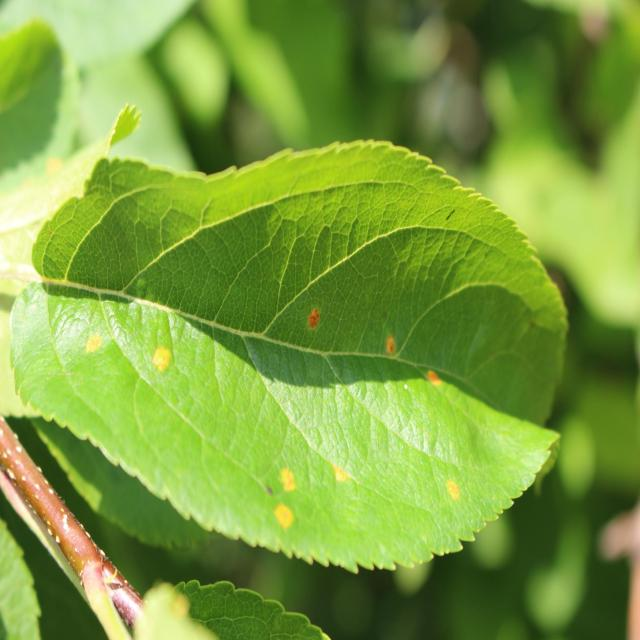rust: (8, 138, 569, 574)
